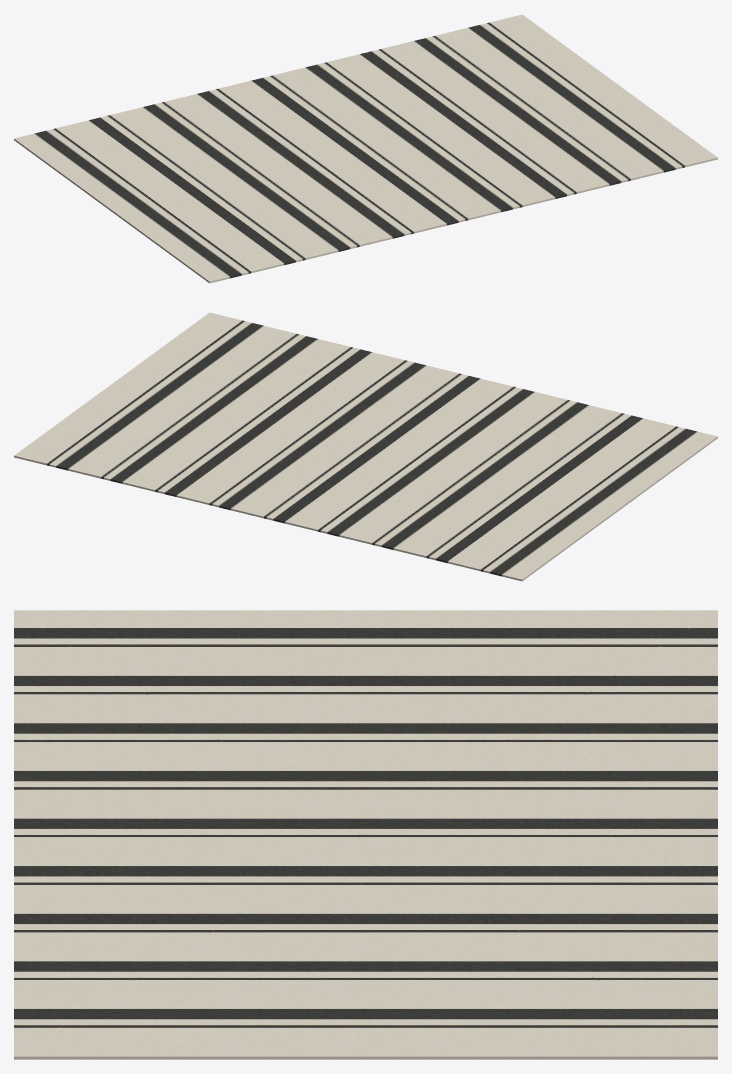
Rendered from alfombra_rayas_200x300.glb.
3 views of the same model, one above another, from view 1: azimuth 30°, elevation 25°; view 2: azimuth 150°, elevation 25°; view 3: azimuth 270°, elevation 25° (orthographic). The views are drawn at different scales.
Parts seen in each view (by area): view 1: alfombra_rayas_200x300; view 2: alfombra_rayas_200x300; view 3: alfombra_rayas_200x300.
Boxes of the visible parts, x1,y1,x2,y2 form: alfombra_rayas_200x300: (14, 14, 717, 283); alfombra_rayas_200x300: (14, 312, 717, 581); alfombra_rayas_200x300: (14, 610, 717, 1059).
Size of the model in its own units: 3 by 0.01 by 2.
1 material, 1 textured.
